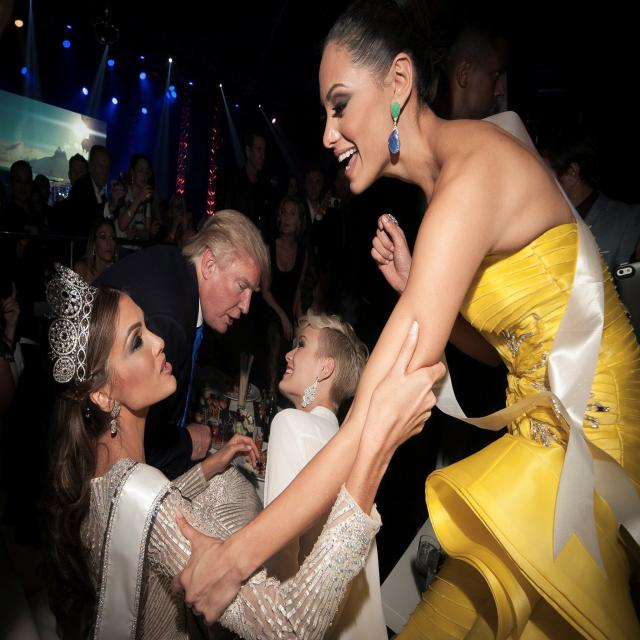body: (167, 0, 640, 640), (35, 260, 451, 640), (83, 207, 271, 481), (262, 306, 390, 637), (531, 130, 639, 268), (263, 194, 310, 419), (441, 9, 511, 127), (64, 142, 128, 264), (0, 159, 43, 302), (0, 276, 30, 429), (223, 128, 268, 228), (112, 151, 153, 257), (611, 239, 640, 359), (72, 216, 121, 286), (32, 173, 58, 298), (127, 152, 154, 254), (298, 164, 326, 243), (320, 162, 352, 220), (163, 192, 189, 244), (68, 152, 89, 186), (177, 226, 201, 249), (283, 172, 300, 198), (158, 195, 172, 225), (187, 203, 201, 226)
